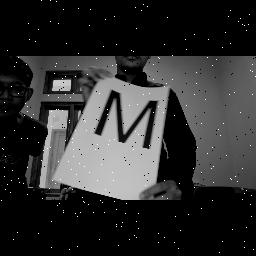m: (90, 86, 162, 154)
